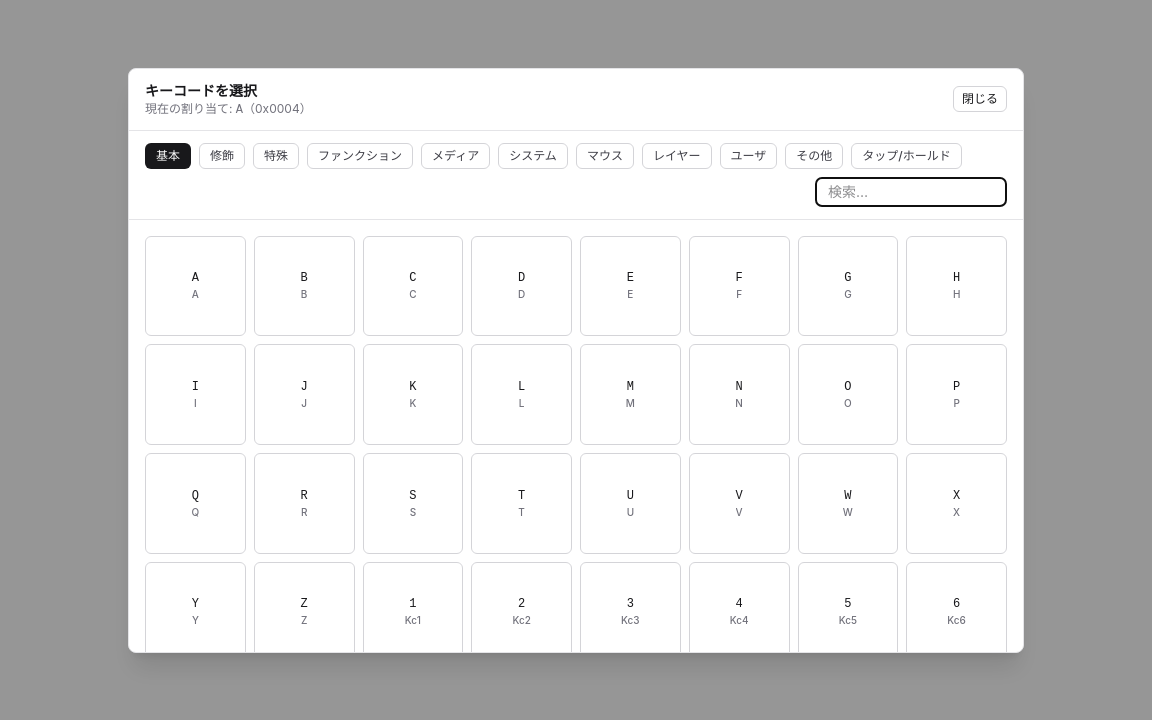
it: KeycodePicker › search filters across all categories
Type "enter" into the search field with placeholder "検索…".
click(911, 192); type("enter")  # box [815,176,1007,206]
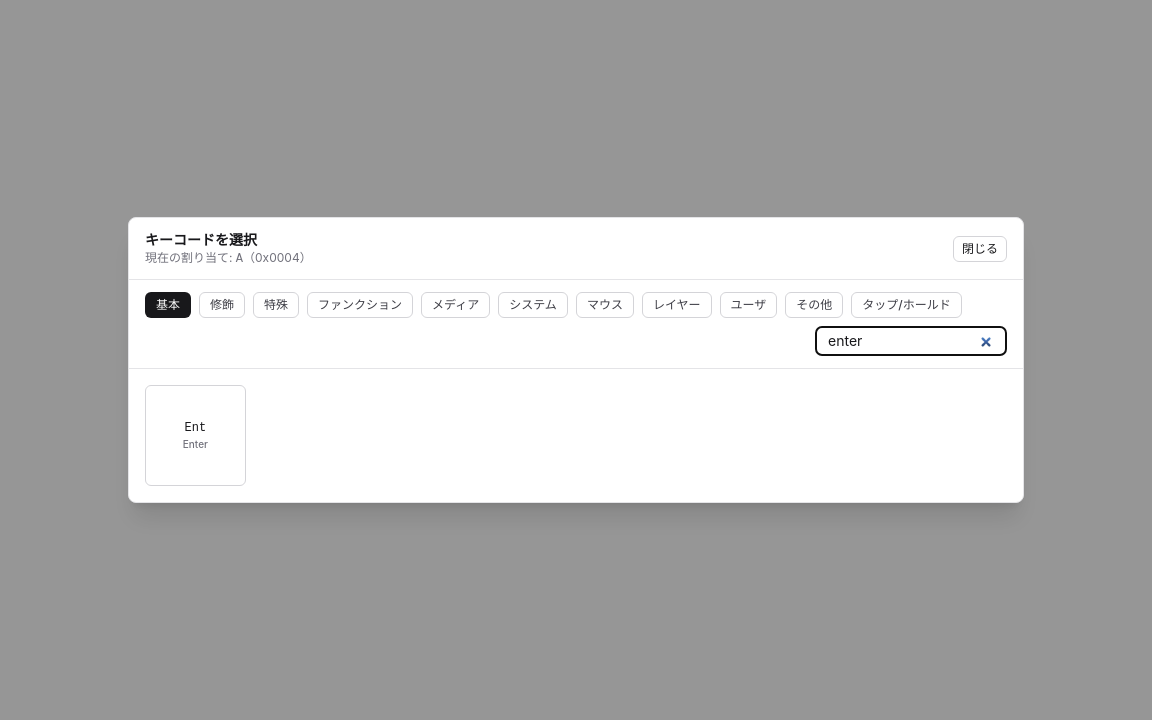
Expected: the text "Enter" is shown, [183,438,208,451]
